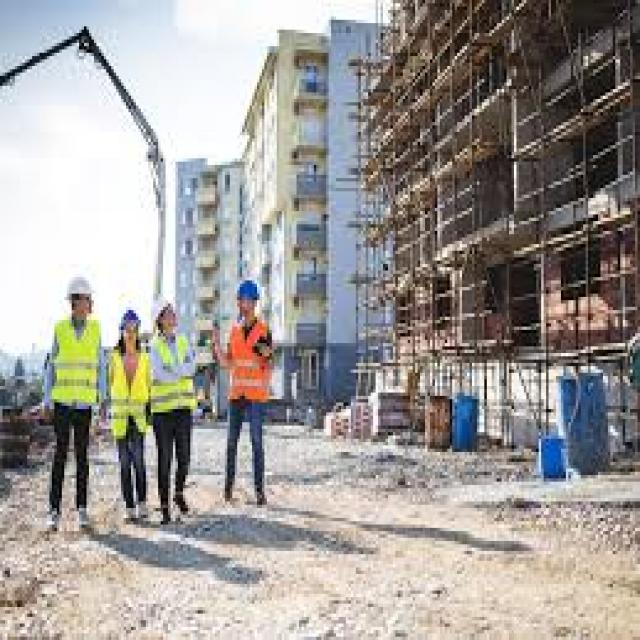Reflective-Jacket: (47, 310, 104, 416), (104, 343, 153, 439), (225, 316, 274, 406), (148, 330, 198, 416)
Safety-Helmet: (62, 267, 96, 304), (235, 277, 262, 304)
